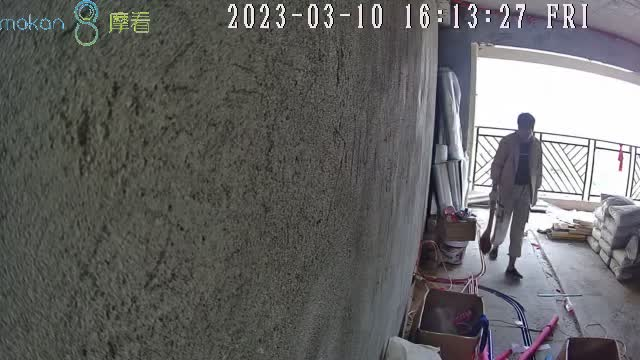people: (491, 112, 542, 279)
window: (477, 53, 640, 142)
